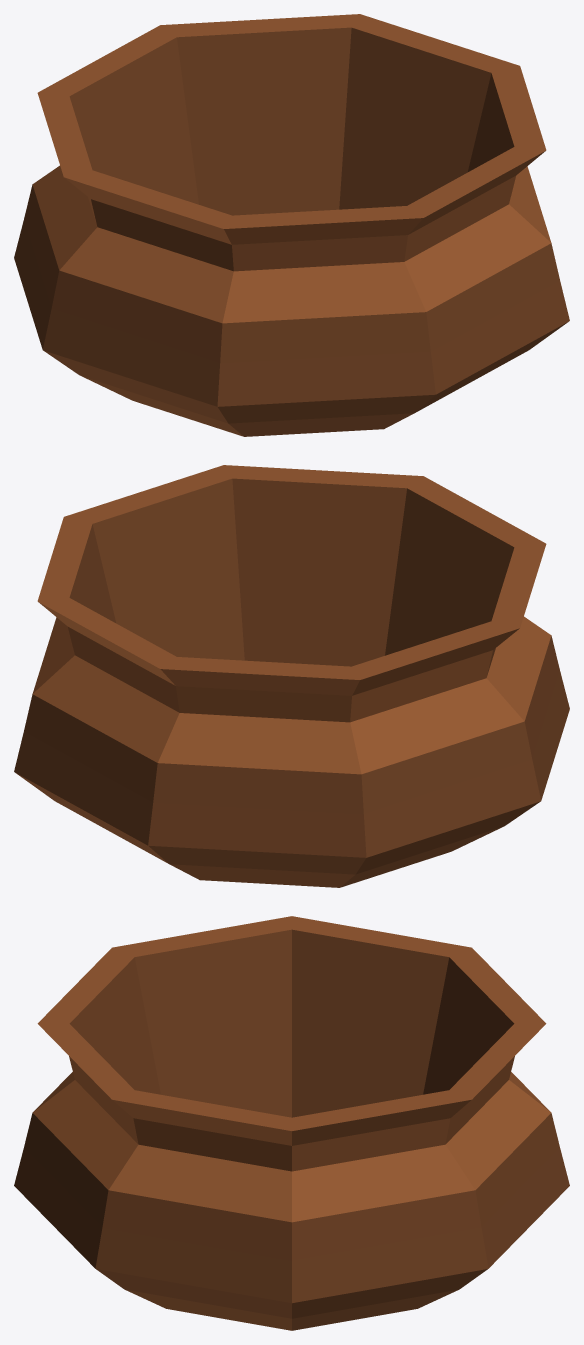
The model's file is pot_1.fbx.
3 views of the same model, one above another, from view 1: azimuth 30°, elevation 25°; view 2: azimuth 150°, elevation 25°; view 3: azimuth 270°, elevation 25° (orthographic). The views are drawn at different scales.
Parts seen in each view (by area): view 1: pot_1; view 2: pot_1; view 3: pot_1.
Boxes of the visible parts, left/top/right/bottom form: pot_1: left=14, top=14, right=569, bottom=436; pot_1: left=14, top=465, right=569, bottom=887; pot_1: left=14, top=916, right=569, bottom=1330.
Size of the model in its own units: 38.82 by 20.15 by 38.82.
